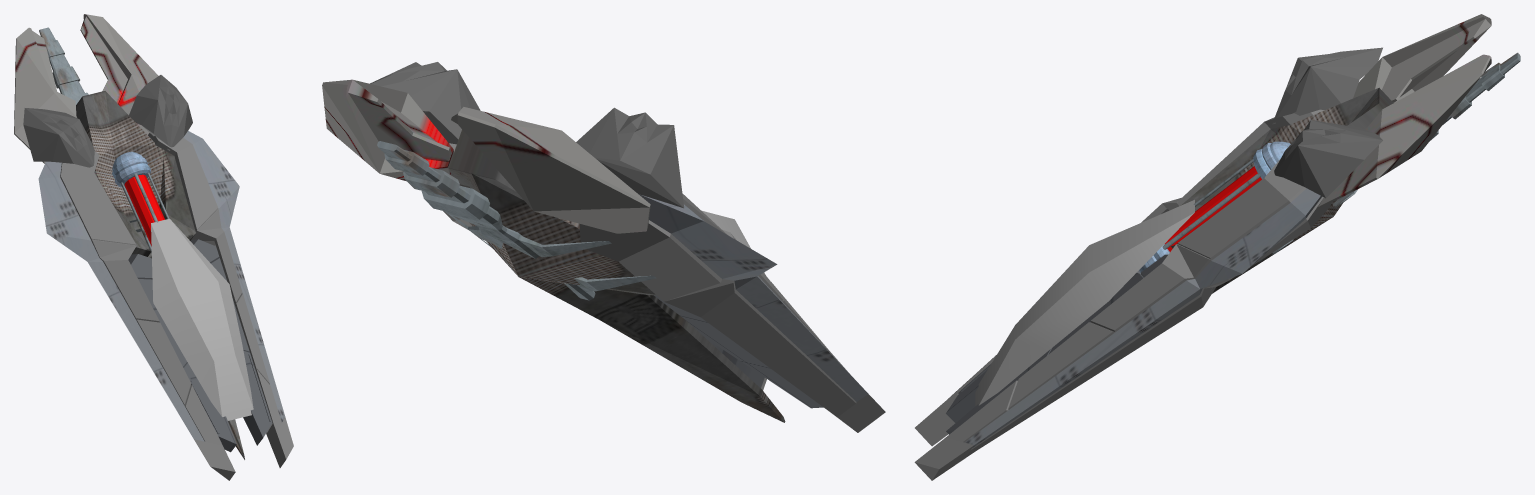
File: weakclose1.fbx
3 views of the same model, side by side, from view 1: azimuth 30°, elevation 25°; view 2: azimuth 150°, elevation 25°; view 3: azimuth 270°, elevation 25° (orthographic). The views are drawn at different scales.
Visible parts, largest first — view 1: polySurface3355, polySurface3360; view 2: polySurface3355; view 3: polySurface3355, polySurface3360.
Part boxes in pixels (left/top/right/bottom): polySurface3355: left=14, top=14, right=293, bottom=480; polySurface3360: left=151, top=218, right=253, bottom=420; polySurface3355: left=322, top=62, right=885, bottom=432; polySurface3355: left=914, top=14, right=1520, bottom=480; polySurface3360: left=975, top=199, right=1194, bottom=406.
Size of the model in its own units: 3.97 by 6.06 by 7.75.
